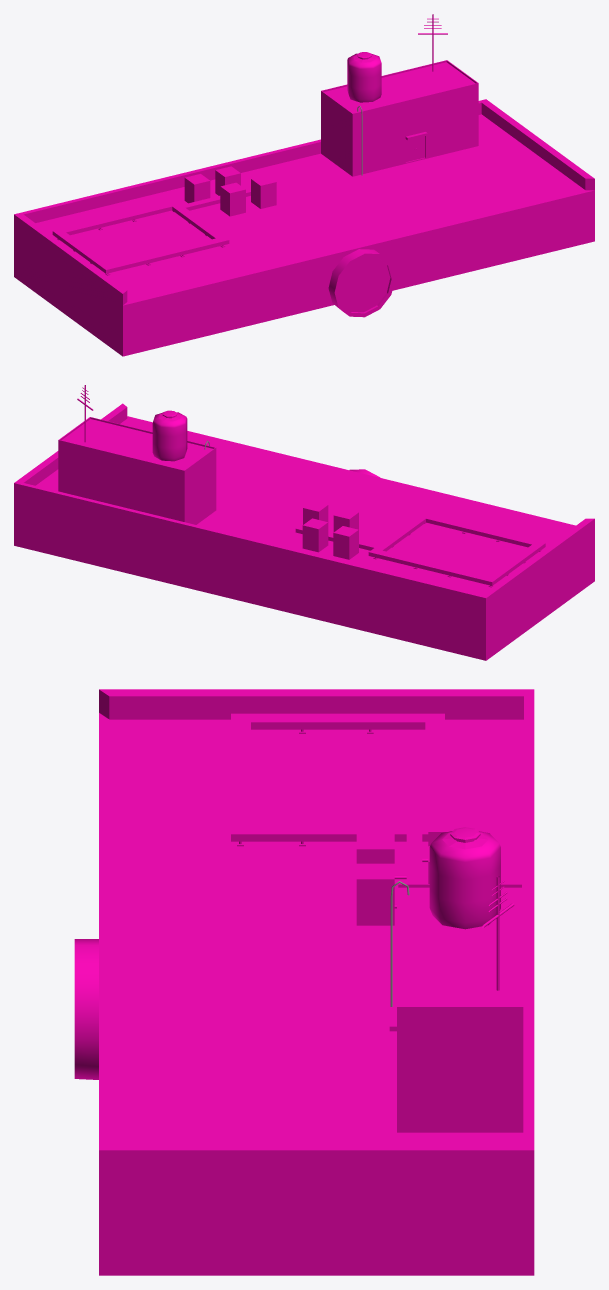
3 views of the same model, one above another, from view 1: azimuth 30°, elevation 25°; view 2: azimuth 150°, elevation 25°; view 3: azimuth 270°, elevation 25° (orthographic). The views are drawn at different scales.
Parts seen in each view (by area): view 1: Box001, Box003, Box004, Cylinder003, Box008, Cylinder002; view 2: Box001, Box003, Box004, Box008, Cylinder002; view 3: Box001, Box003, Box004, Cylinder002, Box008, Cylinder003.
Part boxes in pixels (x1,y1,x2,y2): Box001: [14, 99, 594, 356]; Box003: [321, 60, 478, 176]; Box004: [52, 188, 250, 275]; Cylinder003: [328, 249, 395, 317]; Box008: [184, 166, 276, 216]; Cylinder002: [347, 52, 381, 102]; Box001: [14, 403, 594, 660]; Box003: [58, 417, 216, 524]; Box004: [295, 513, 545, 587]; Box008: [302, 501, 358, 559]; Cylinder002: [152, 410, 187, 461]; Box001: [99, 689, 534, 1275]; Box003: [389, 884, 523, 1132]; Box004: [231, 713, 444, 908]; Cylinder002: [429, 827, 500, 929]; Box008: [356, 816, 466, 925]; Cylinder003: [74, 939, 98, 1079].
Size of the model in its own units: 394 by 146 by 166.
